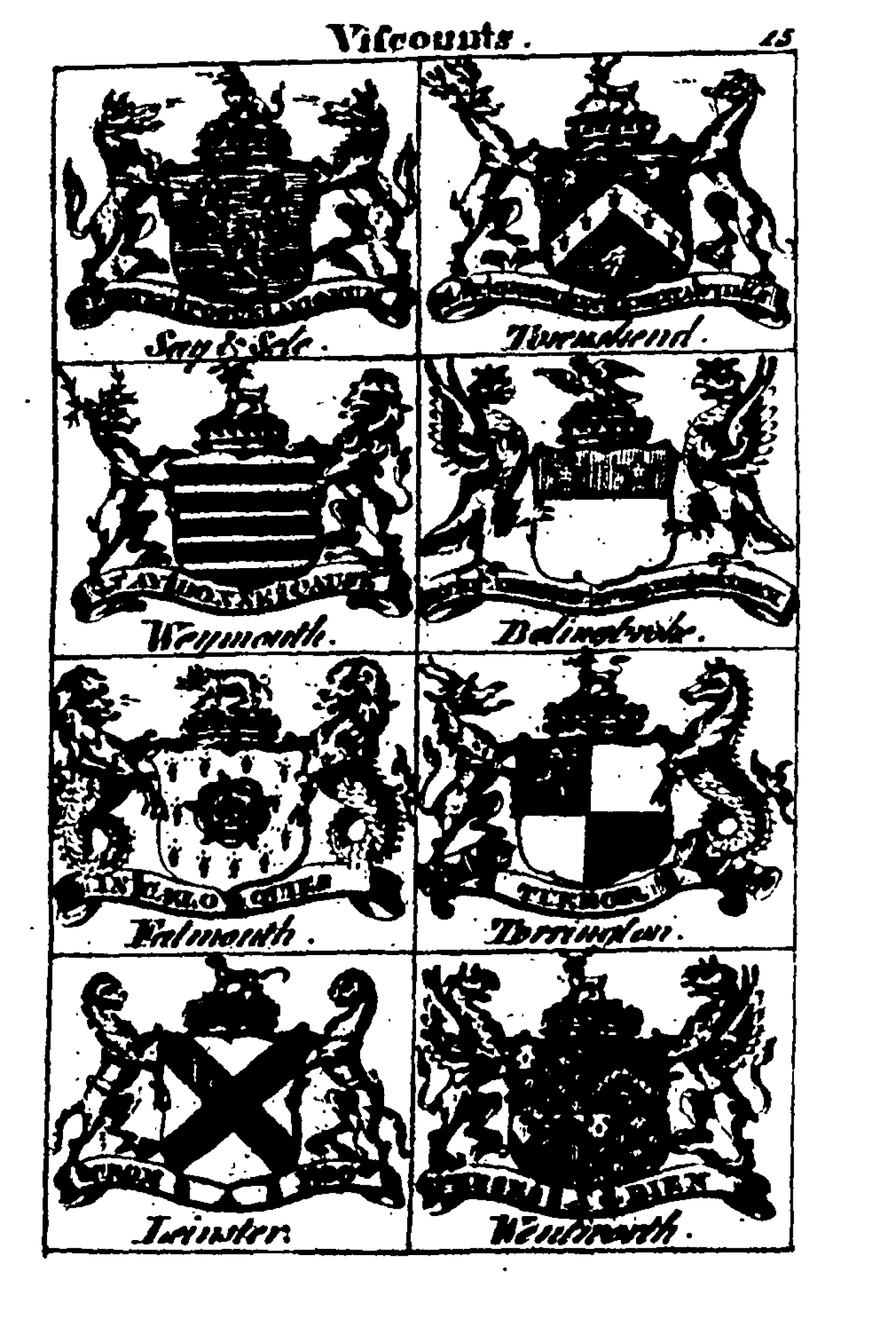coat_of_arms: (421, 654, 791, 944), (416, 957, 788, 1244), (420, 361, 793, 642), (54, 364, 409, 656), (427, 58, 784, 346), (54, 659, 411, 947), (58, 959, 409, 1249), (68, 76, 410, 357)
